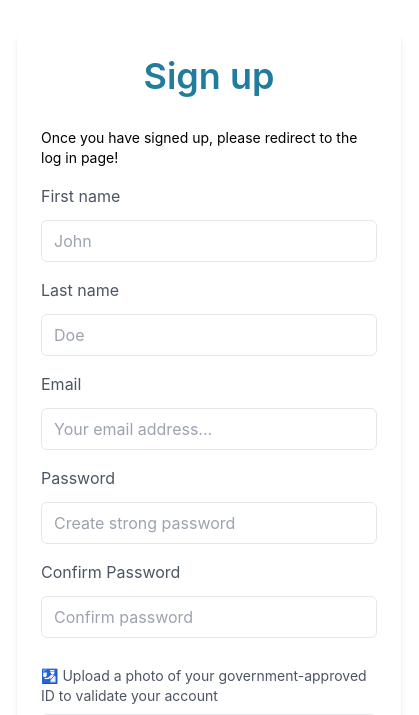
Test: Signup Component › displays error message on password mismatch
The width and height of the screenshot is (419, 715).
Note: Fill out the form with mismatched passwords
Type "poo" into the password field labelled "Password" at [209, 523], box [41, 502, 377, 544]
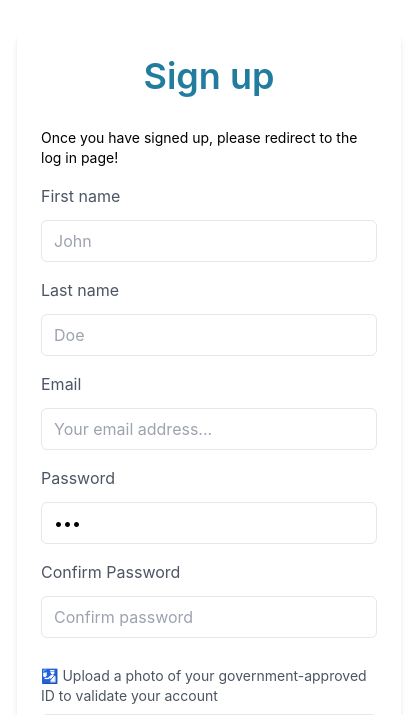
Type "poo123" into the password field labelled "Confirm Password" at [209, 617], box [41, 596, 377, 638]
(page scrolled)
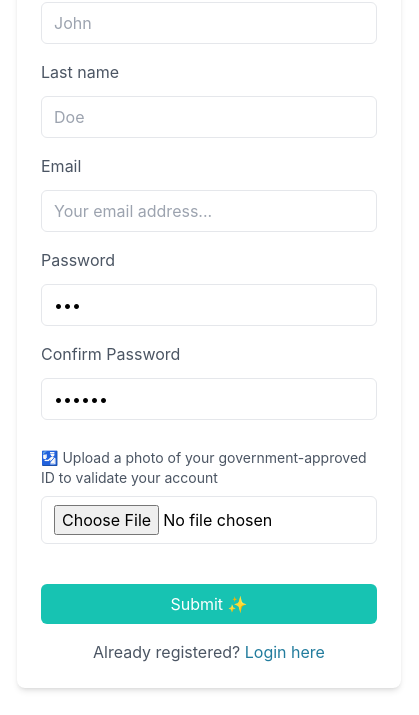
Submit the form from the button "Submit ✨", box [41, 584, 377, 624]
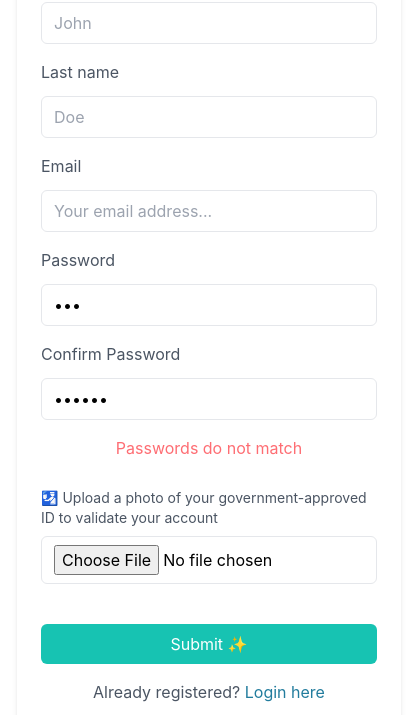
Check: the text "Passwords do not match" is shown, box [116, 438, 302, 458]
